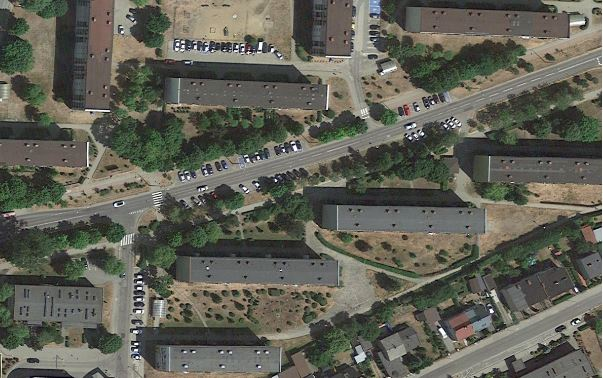block of flats: (161, 75, 329, 115), (401, 2, 573, 40), (320, 199, 489, 236), (173, 254, 342, 288), (68, 1, 116, 111), (7, 281, 104, 331), (153, 342, 282, 375), (469, 155, 602, 187), (1, 137, 89, 169), (307, 1, 354, 60)
terrace house: (499, 263, 576, 316), (439, 302, 494, 343), (376, 323, 423, 364)
